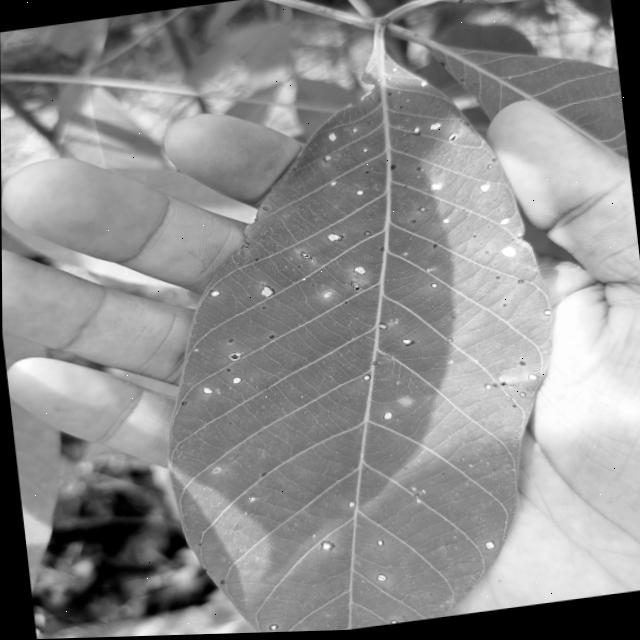Colletotrichum: (259, 286, 274, 300), (319, 541, 334, 553), (227, 352, 242, 364), (352, 267, 366, 277), (230, 376, 242, 386), (381, 412, 392, 422), (374, 575, 386, 584), (207, 290, 220, 298), (483, 543, 494, 552), (377, 324, 387, 333), (526, 376, 537, 384), (327, 135, 336, 144), (267, 625, 278, 632), (355, 192, 365, 199), (542, 311, 550, 319), (429, 284, 438, 291), (361, 376, 370, 383), (401, 340, 410, 347), (346, 502, 355, 509), (362, 232, 371, 239), (440, 220, 449, 227), (375, 541, 383, 548), (518, 394, 525, 401), (388, 621, 396, 626), (517, 281, 523, 287), (487, 166, 493, 172), (446, 340, 452, 345), (180, 402, 186, 407), (268, 336, 274, 341), (228, 339, 234, 344), (361, 150, 367, 155), (262, 208, 267, 213), (365, 124, 369, 128), (495, 279, 499, 282), (226, 369, 230, 372), (344, 303, 346, 306), (297, 267, 300, 269), (254, 260, 257, 262), (262, 308, 264, 310)
